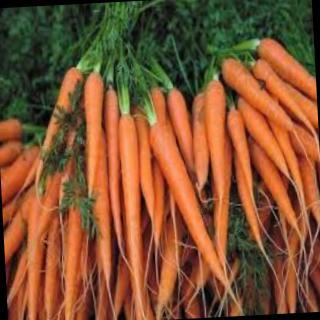Wortel: (149, 119, 223, 285), (220, 54, 300, 139), (116, 112, 148, 313), (226, 108, 261, 217), (83, 65, 108, 203), (206, 76, 231, 196)
